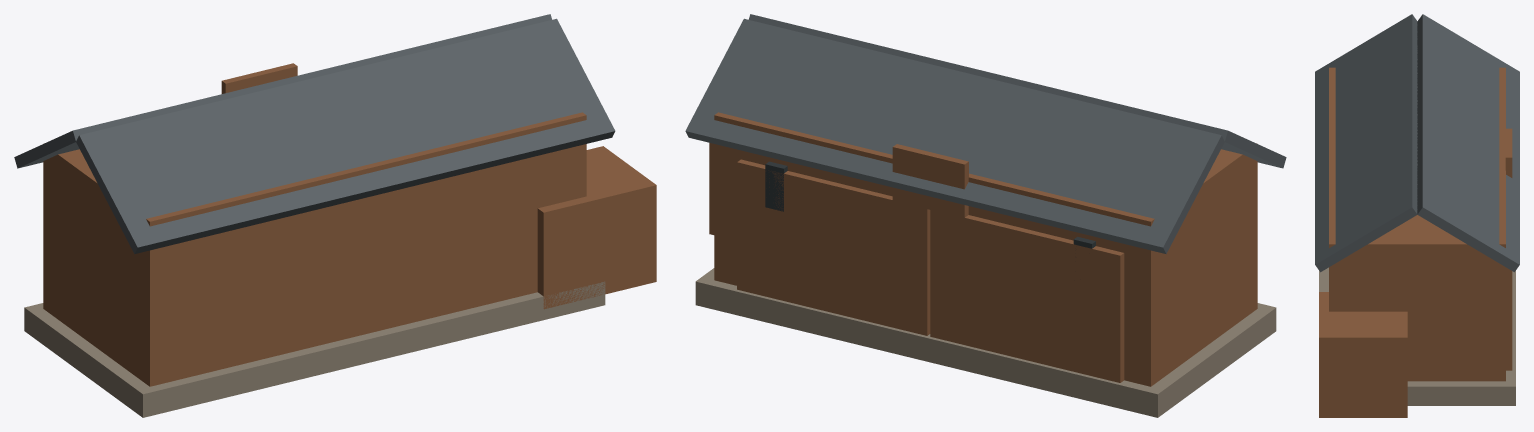
File: Barn.glb
3 renders of one model, left to right at view 1: azimuth 30°, elevation 25°; view 2: azimuth 150°, elevation 25°; view 3: azimuth 270°, elevation 25°, orthographic. The views are drawn at different scales.
Parts seen in each view (by area): view 1: barn-static-barn-wood, barn-static-barn-roof, barn-static-barn-stone; view 2: barn-static-barn-wood, barn-static-barn-roof, barn-static-barn-stone, barn-static-barn-iron; view 3: barn-static-barn-roof, barn-static-barn-wood, barn-static-barn-stone.
Boxes of the visible parts, <box> form: barn-static-barn-wood: <box>43,63,656,386</box>; barn-static-barn-roof: <box>14,14,615,254</box>; barn-static-barn-stone: <box>24,281,605,417</box>; barn-static-barn-wood: <box>709,112,1257,386</box>; barn-static-barn-roof: <box>685,14,1286,253</box>; barn-static-barn-stone: <box>695,268,1276,417</box>; barn-static-barn-iron: <box>765,161,1095,248</box>; barn-static-barn-roof: <box>1315,14,1519,272</box>; barn-static-barn-wood: <box>1319,67,1512,417</box>; barn-static-barn-stone: <box>1319,267,1515,405</box>.
Size of the model in its own units: 5.08 by 2.27 by 2.08.
